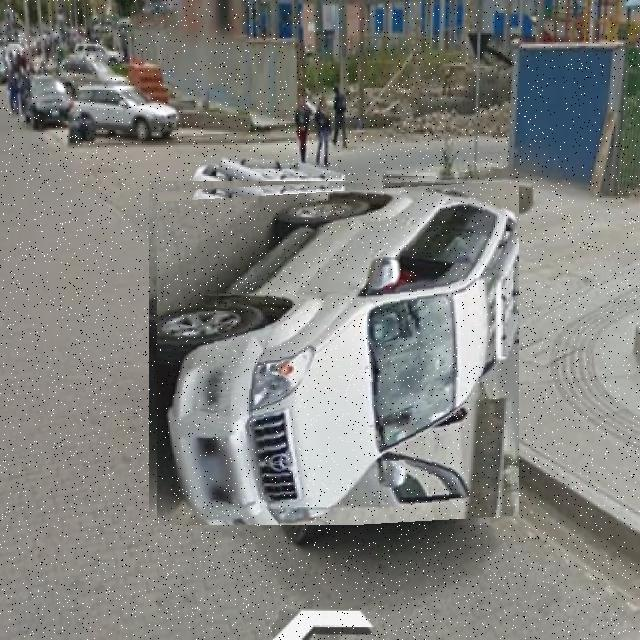car: (158, 172, 512, 526)
